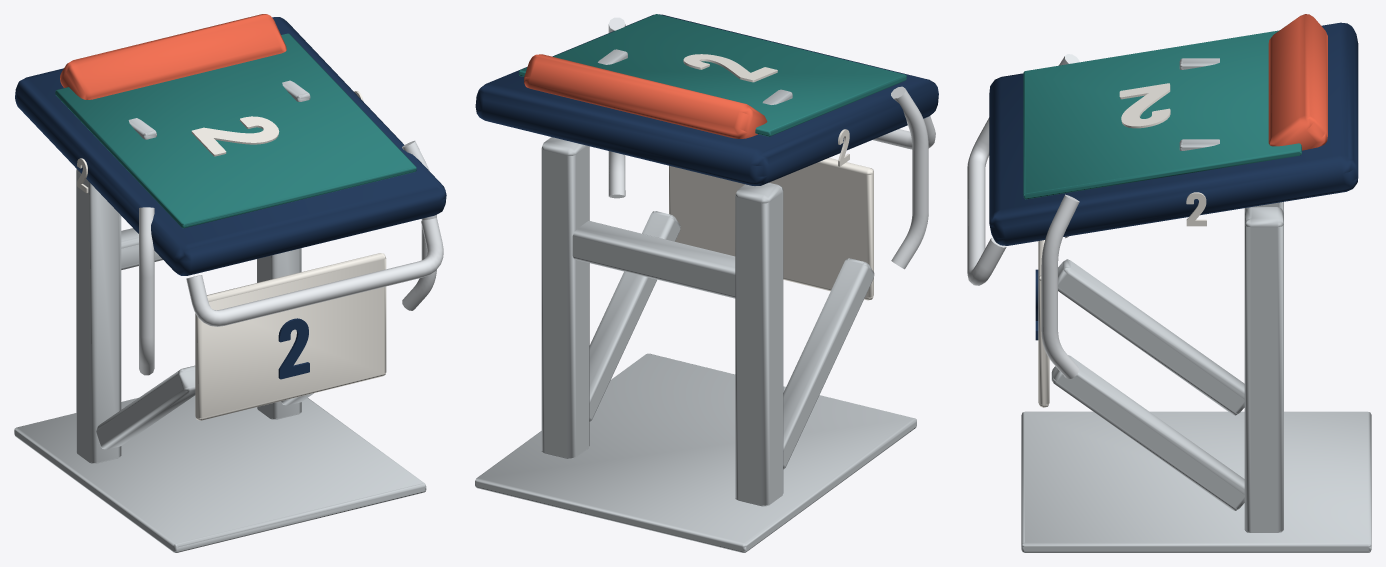
File: starting_block_2.glb
3 renders of one model, left to right at view 1: azimuth 30°, elevation 25°; view 2: azimuth 150°, elevation 25°; view 3: azimuth 270°, elevation 25°, orthographic. The views are drawn at different scales.
Visible parts, largest first — view 1: StartingBlock2Mesh; view 2: StartingBlock2Mesh; view 3: StartingBlock2Mesh.
Part boxes in pixels (x1=…): StartingBlock2Mesh: x1=14, y1=14, x2=446, y2=552; StartingBlock2Mesh: x1=475, y1=14, x2=938, y2=552; StartingBlock2Mesh: x1=967, y1=14, x2=1371, y2=552.
Size of the model in its own units: 0.6562 by 0.8251 by 0.7158.
